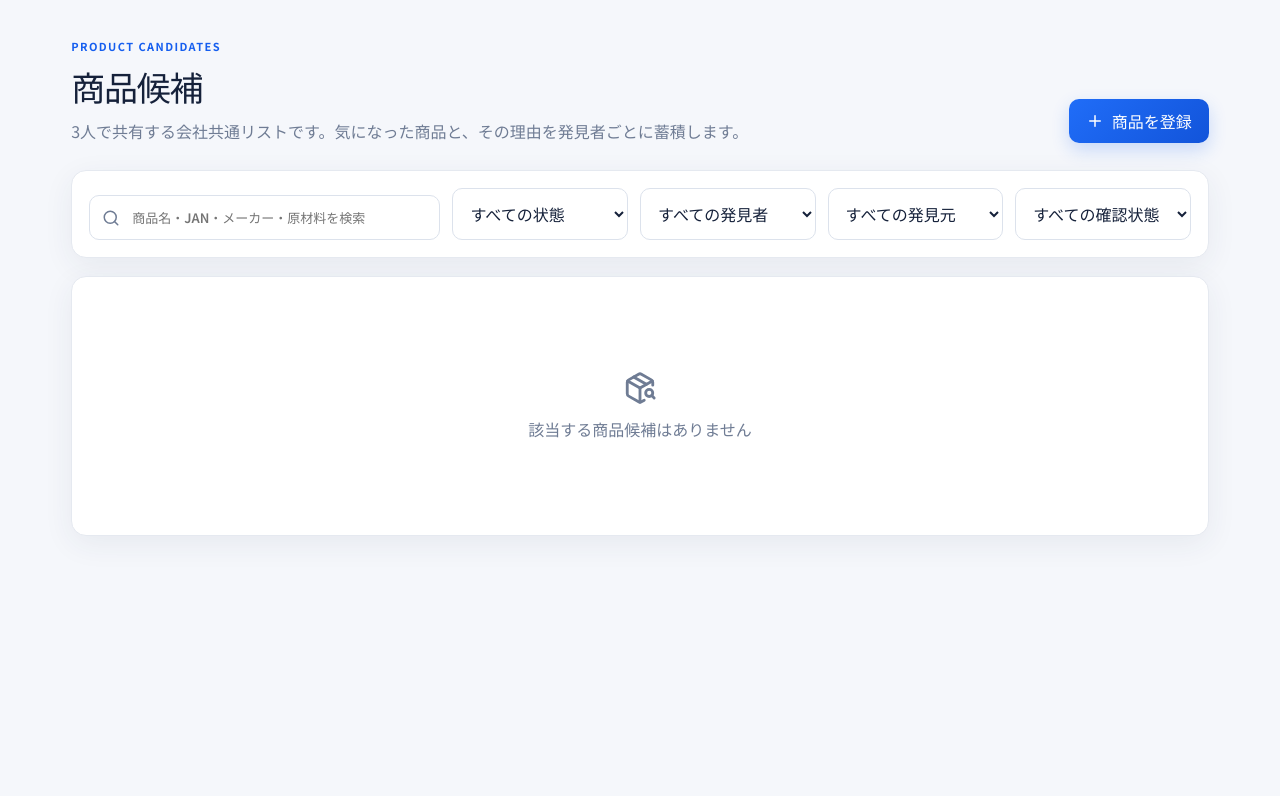
Test: product registration › explains automatic HEIC conversion and JPEG compression
The image size is (1280, 796).
Click the button "商品を登録": (1139, 121) [1069,99,1209,143]
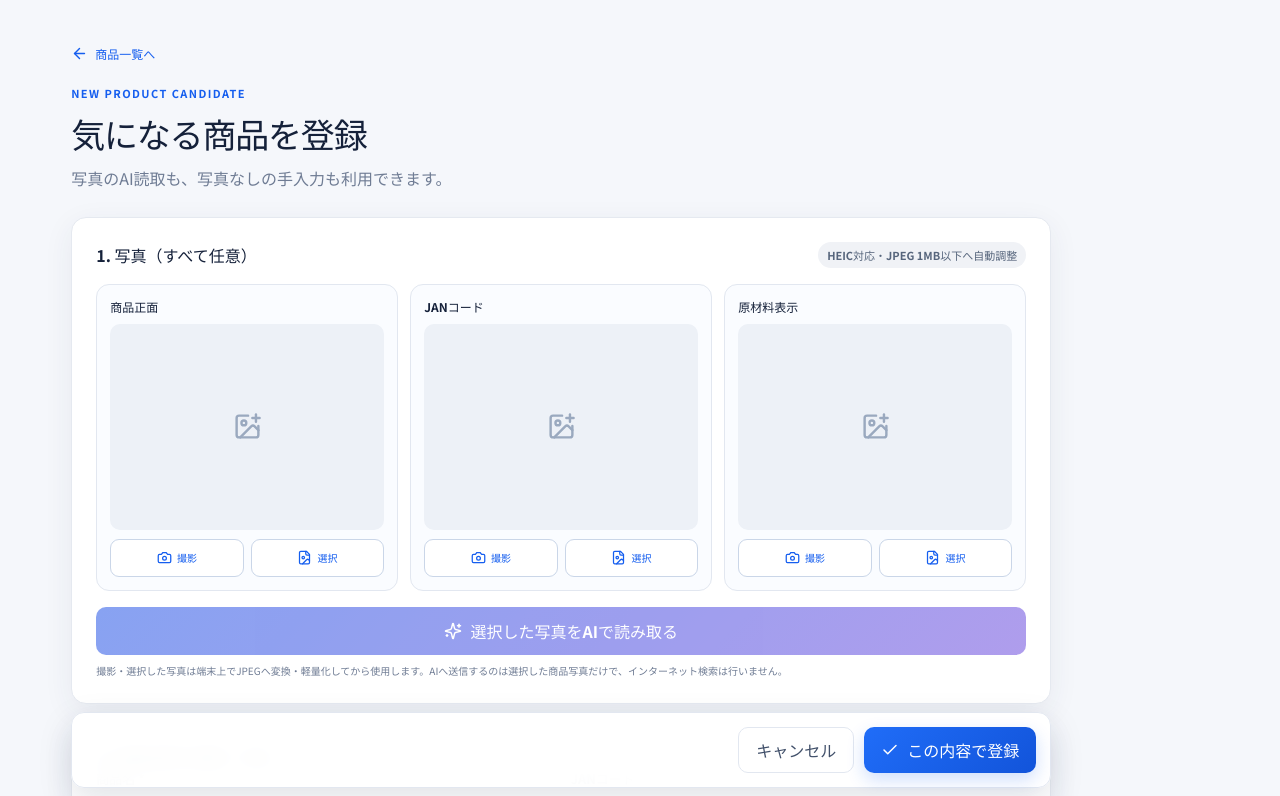
Check: the text "HEIC対応・JPEG 1MB以下へ自動調整" is shown, box [818,242,1026,268]
Check: the text "端末上でJPEGへ変換・軽量化" is shown, box [96,662,788,678]
